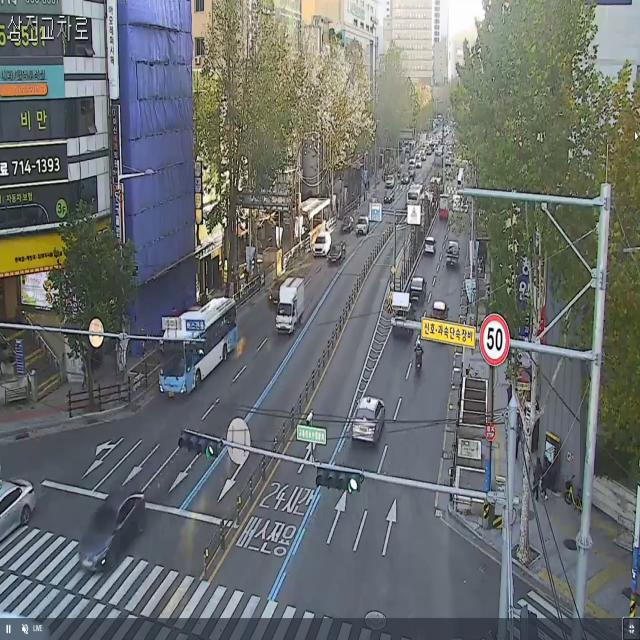bus: (413, 331, 425, 380)
motorcycle: (76, 490, 146, 575), (352, 394, 384, 450), (326, 240, 350, 270), (311, 226, 331, 258), (408, 273, 427, 306), (354, 214, 372, 240), (423, 235, 436, 258)
truck: (159, 294, 241, 396), (274, 275, 307, 337), (445, 231, 463, 272)
